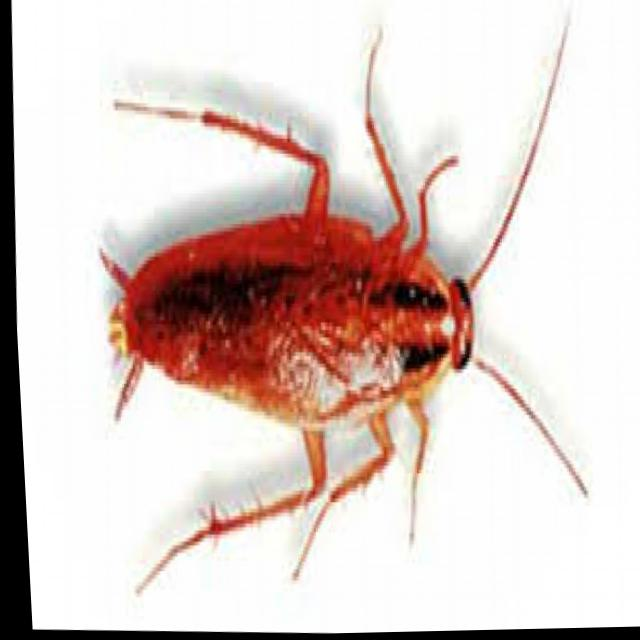Cockroach: (58, 0, 613, 617)
